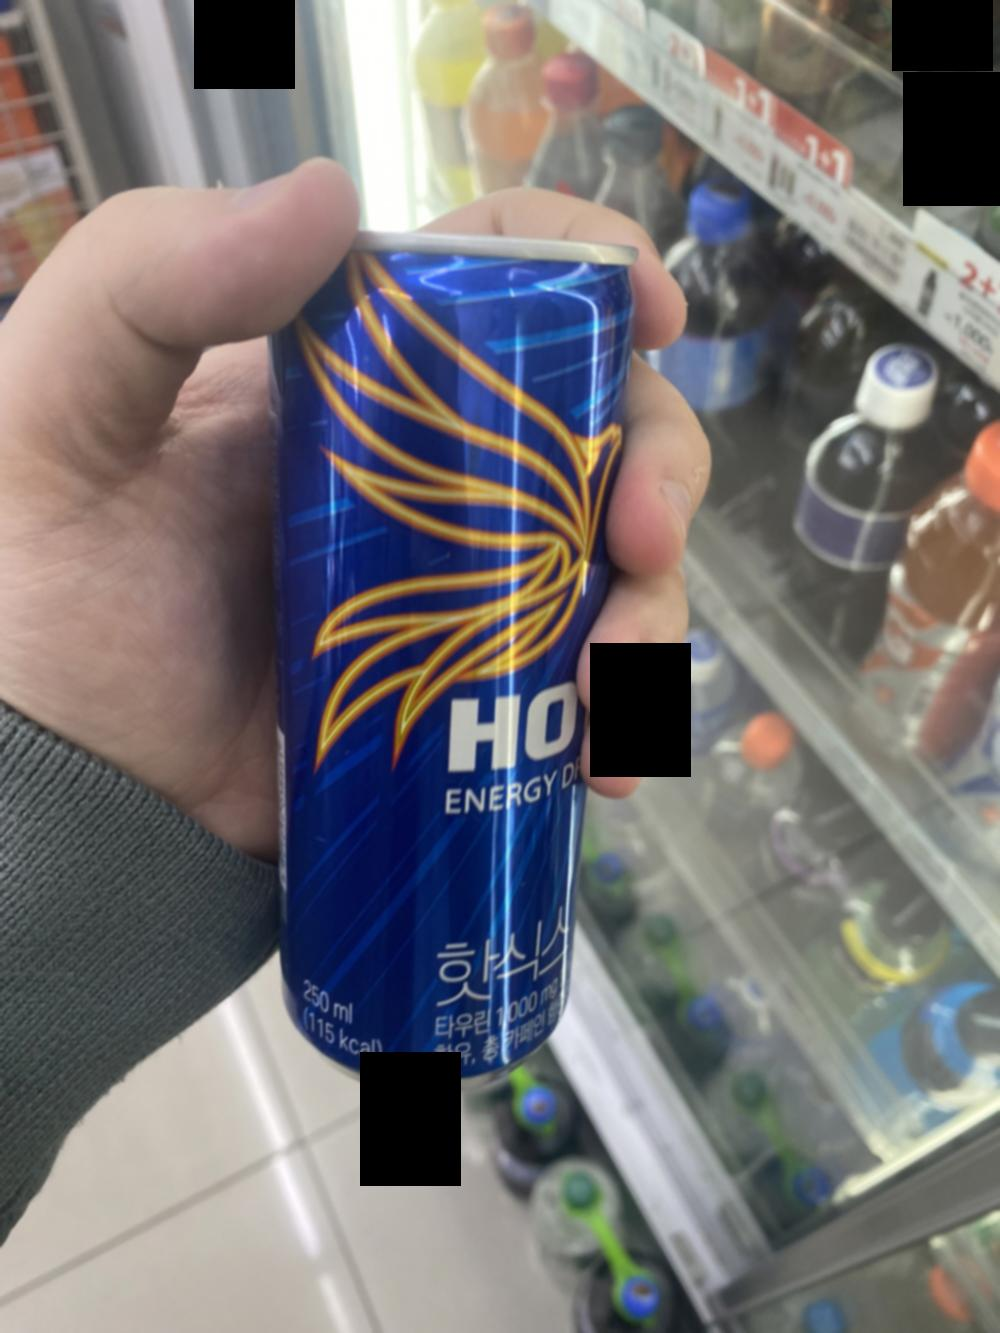hotsix_org: (298, 251, 613, 1089)
